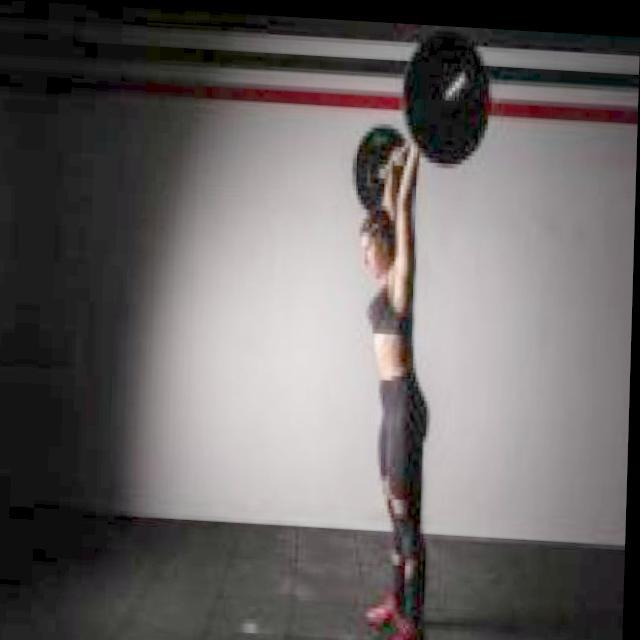barbell: (399, 20, 508, 169)
